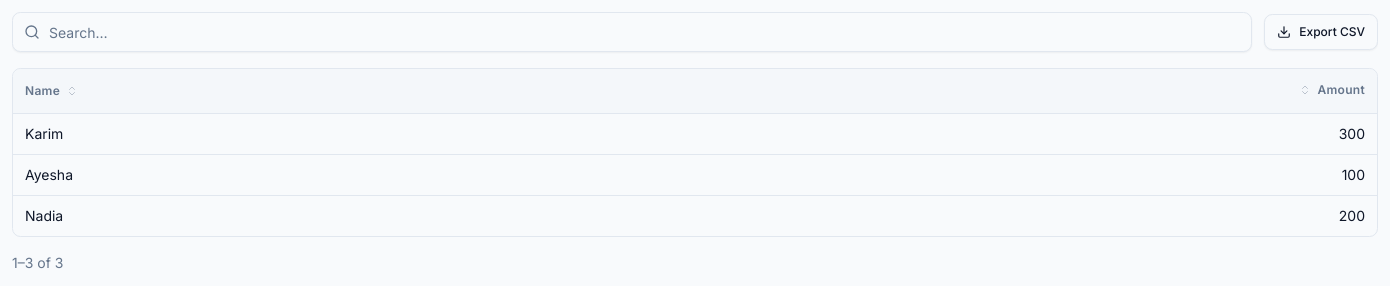
Test case: DataTable › falls back to a database search when nothing matches locally
The image size is (1390, 286).
In the search field: (632, 32) top-left (12, 12), bottom-right (1252, 52), type "rokeya"
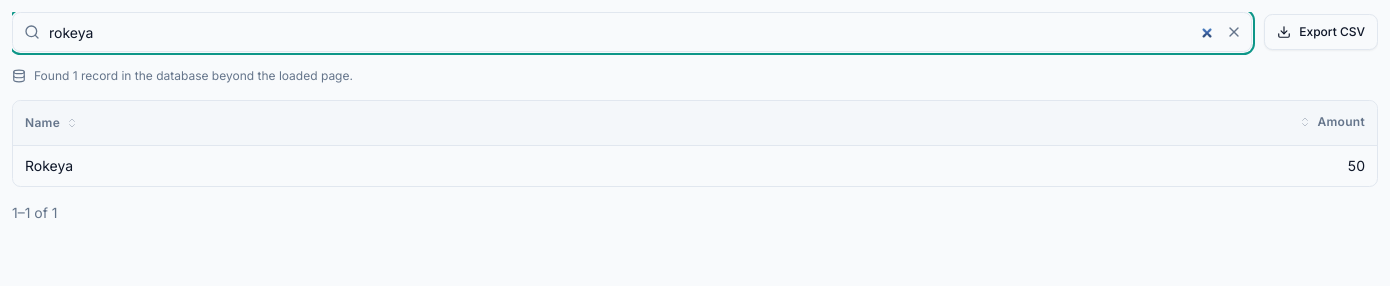
Expected: the text "Found 1 record in the database beyond the loaded page." is shown, top-left (12, 68), bottom-right (353, 83)
